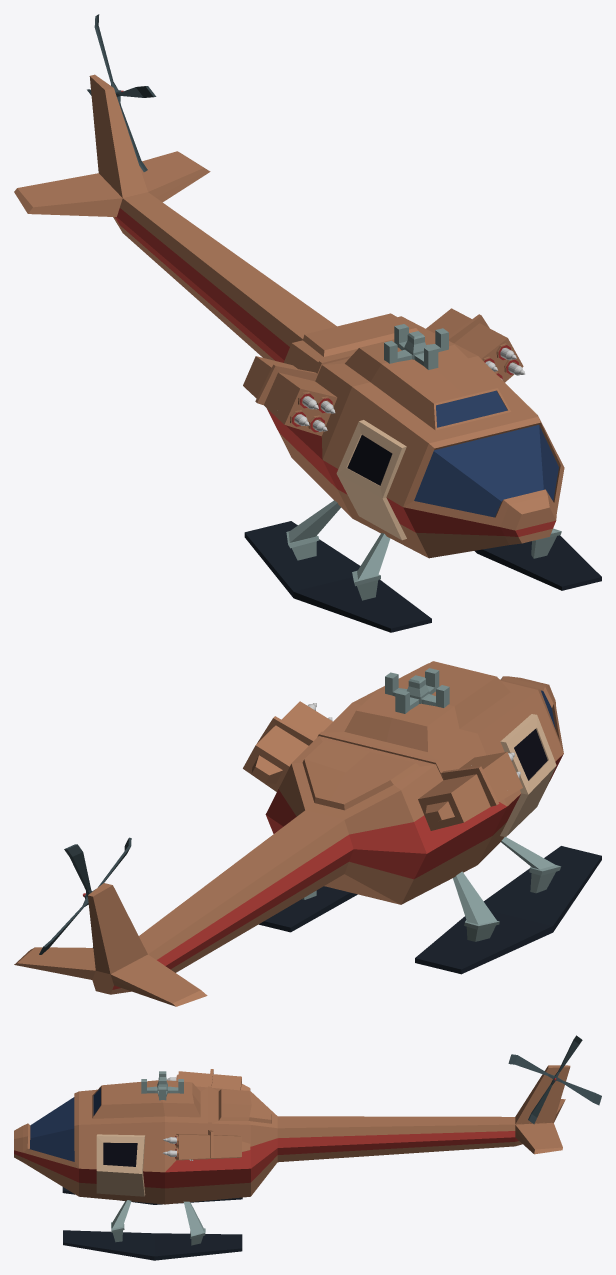
Rendered from heliCabin.obj.
3 renders of one model, top to bottom at view 1: azimuth 30°, elevation 25°; view 2: azimuth 150°, elevation 25°; view 3: azimuth 270°, elevation 25°, orthographic. The views are drawn at different scales.
Parts seen in each view (by area): view 1: Cube.005; view 2: Cube.005; view 3: Cube.005.
Part boxes in pixels (x1,y1,x2,y2): Cube.005: (14,14,601,632); Cube.005: (14,661,601,1006); Cube.005: (14,1035,601,1260).
Bounding box in the file's own units: 7.59 × 8.42 × 23.8.
